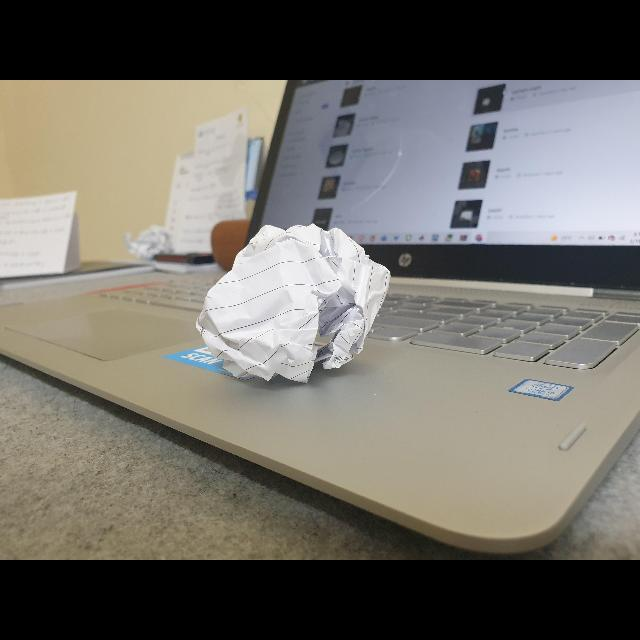scrap_paper: (190, 211, 404, 405)
